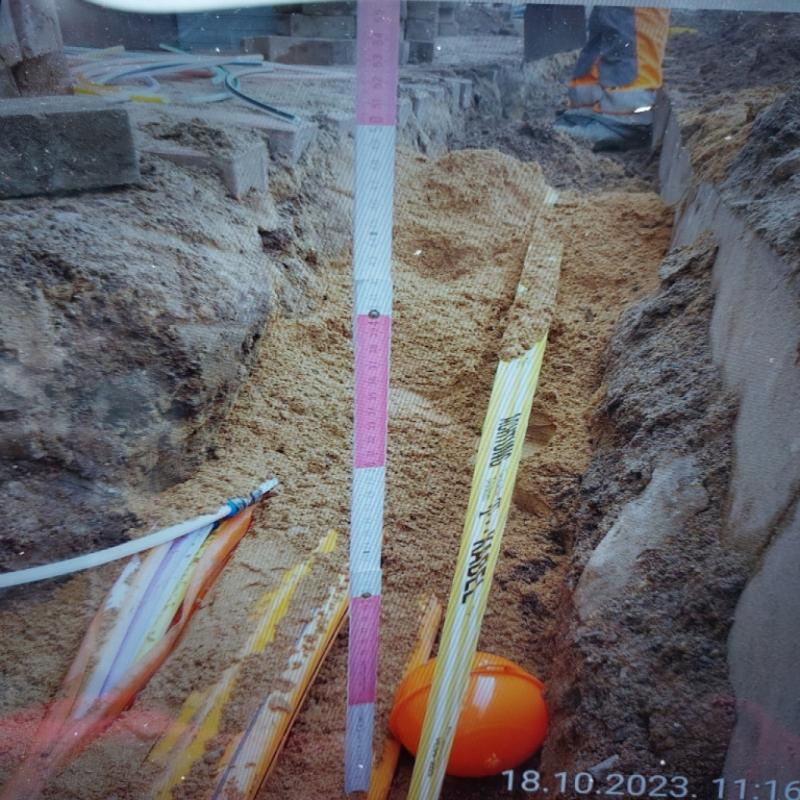Kugelmarker: (390, 653, 546, 776)
Orang-Speednetrohrchen: (29, 507, 254, 800)
